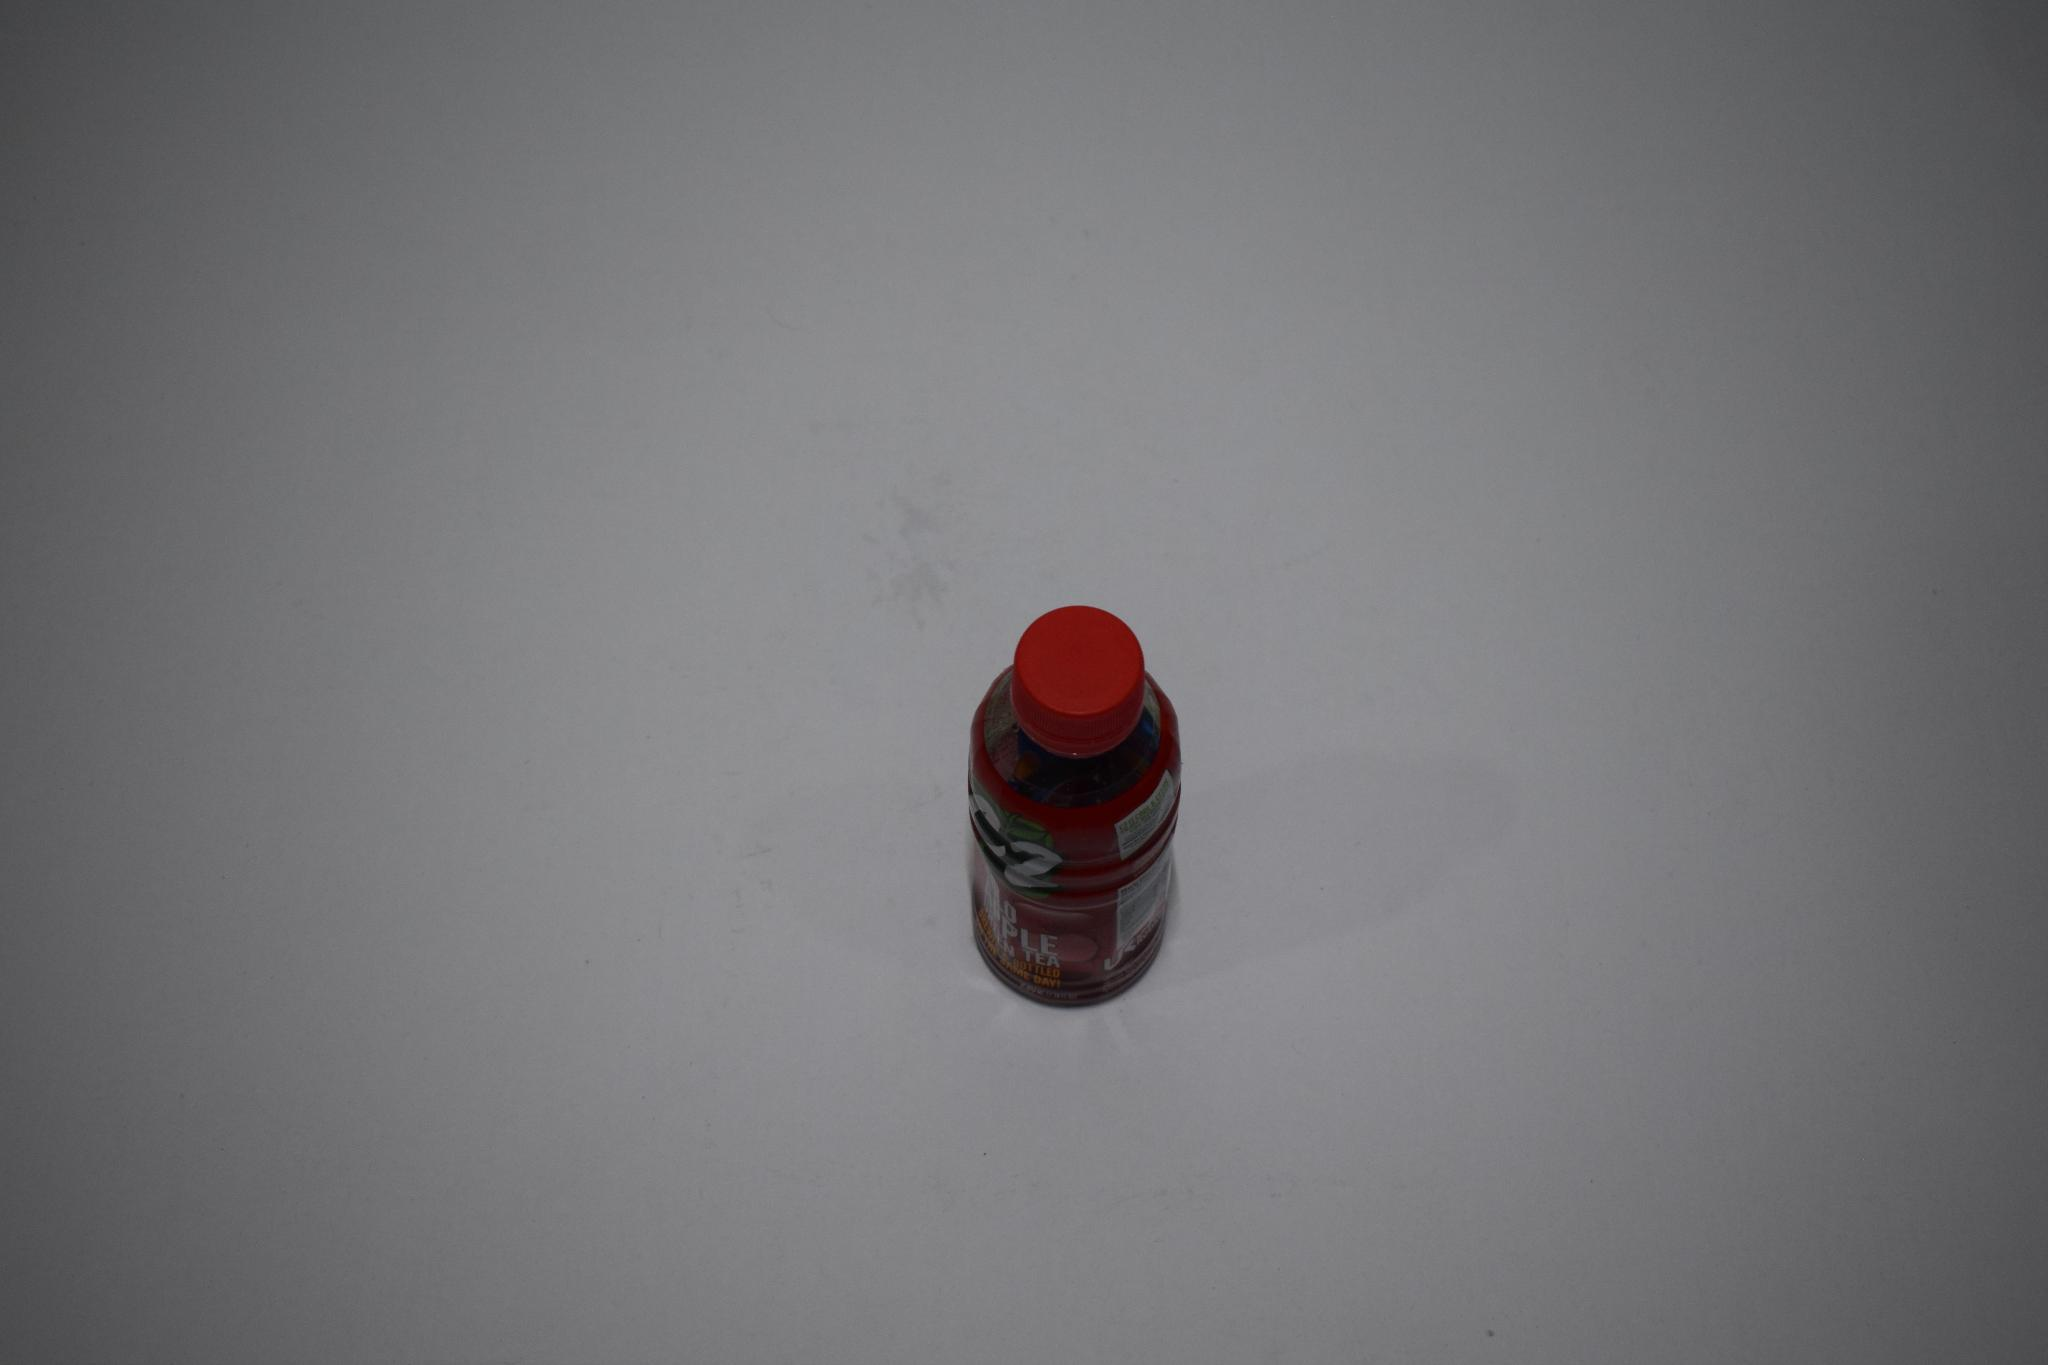bottle: (932, 573, 1235, 1027)
